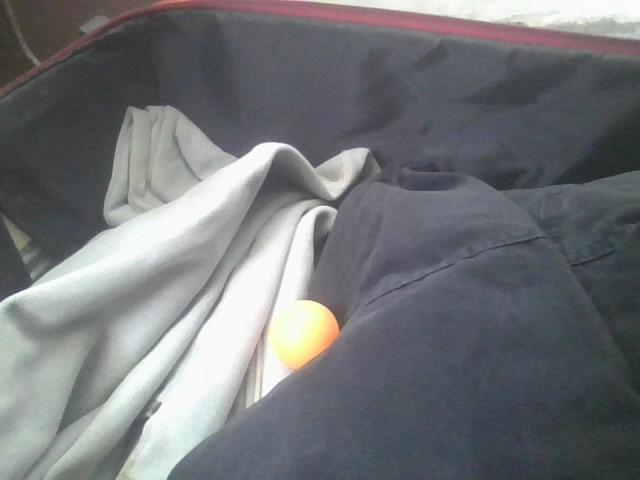ball: (267, 302, 342, 374)
